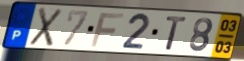2: (121, 12, 152, 53)
7: (62, 9, 90, 48)
8: (188, 17, 215, 53)
F: (89, 12, 127, 49)
T: (165, 15, 189, 52)
X: (27, 6, 65, 48)
